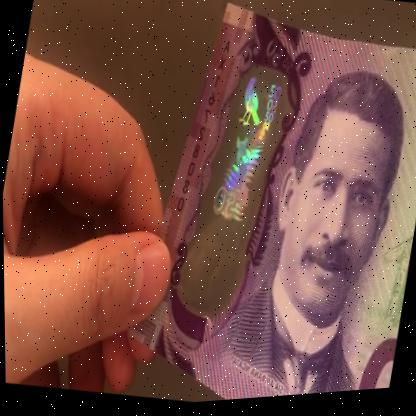50F: (186, 70, 290, 312)
